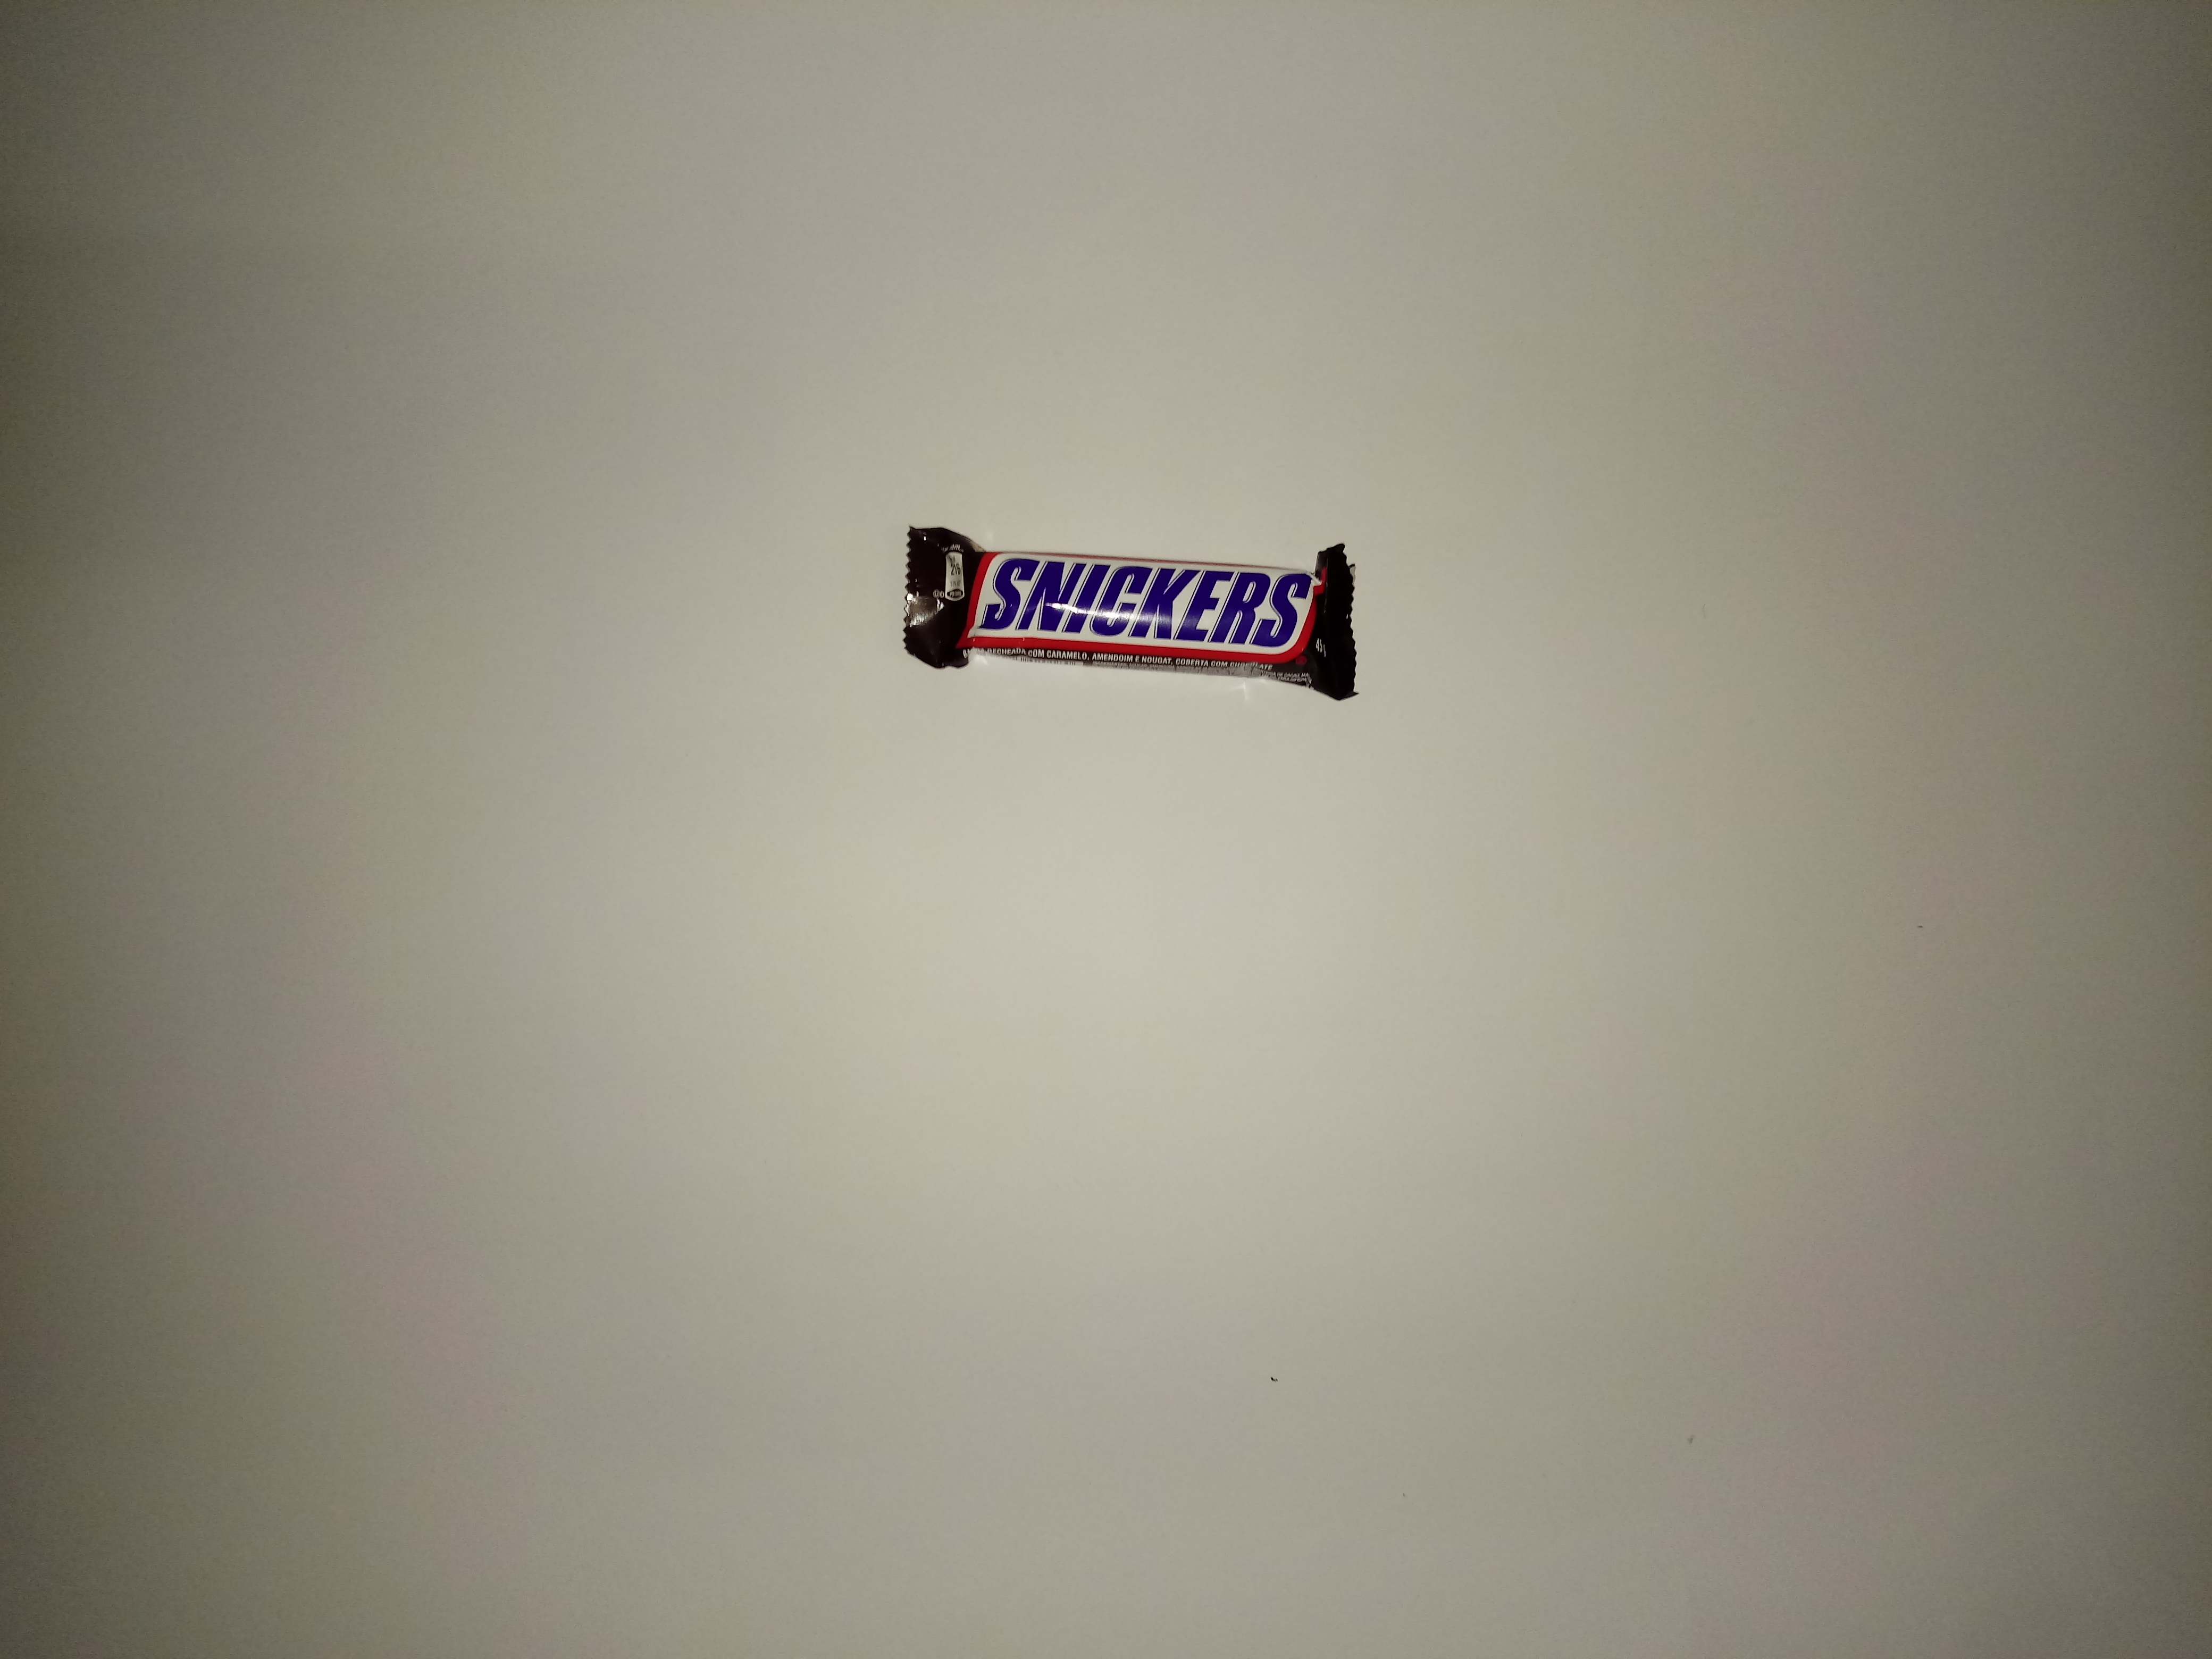snickers: (892, 512, 1372, 708)
